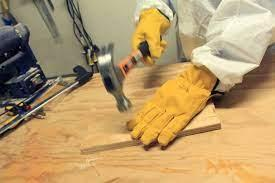gloves: (127, 64, 217, 146), (132, 8, 170, 59)
